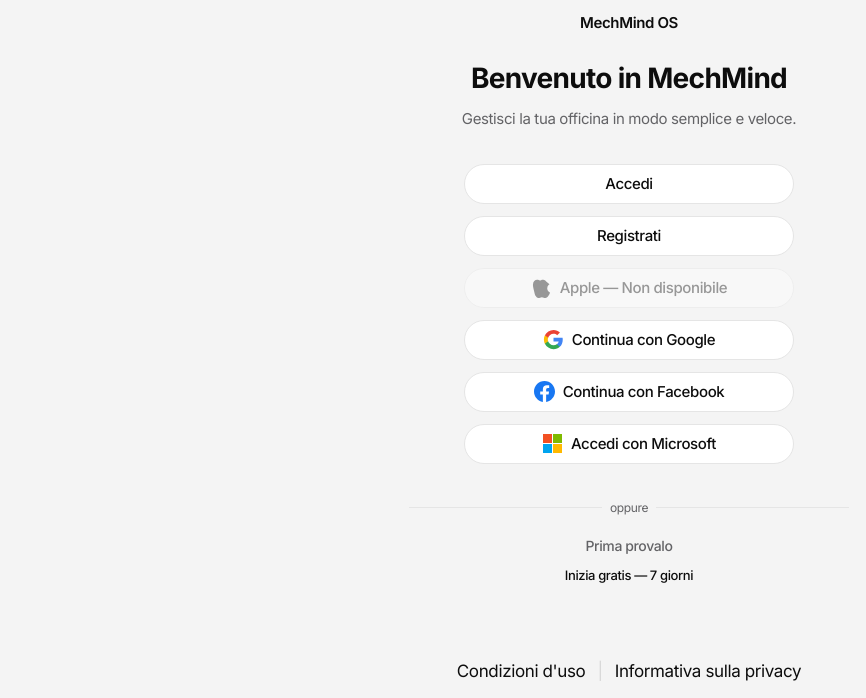
Scenario: AuthPage › Email step › should render slug and email inputs
Click the button "Accedi".
click(629, 184)  # box [464,164,794,204]
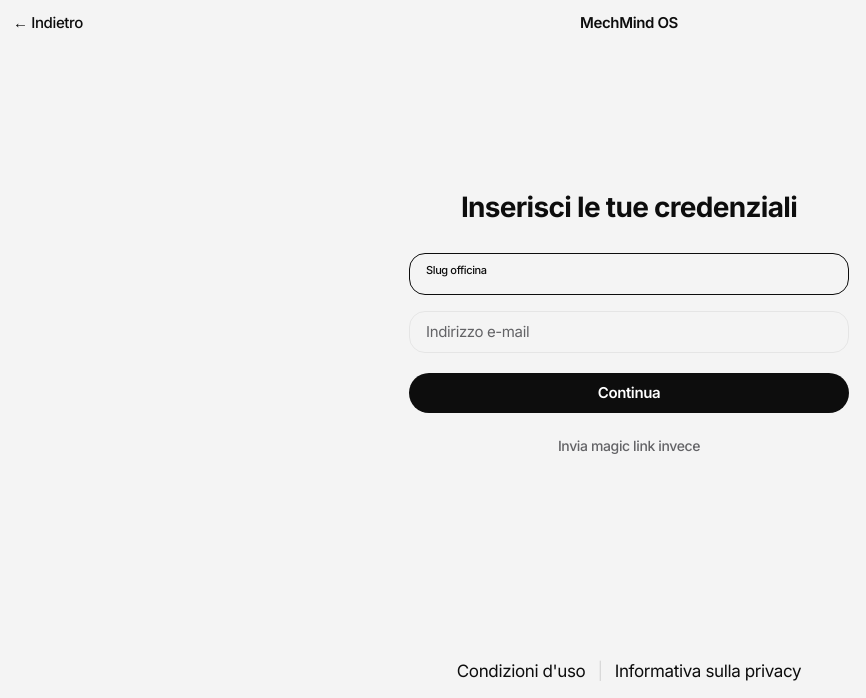
Check: the heading "Inserisci le tue credenziali" is shown, box [461,190,797,224]
Check: the text "Slug officina" is shown, box [426,262,487,278]
Check: the text "Indirizzo e-mail" is shown, box [426,321,529,343]
